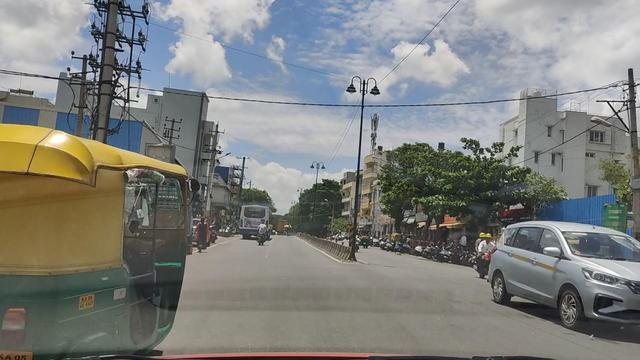LMV: (3, 125, 194, 360), (498, 226, 640, 337)
